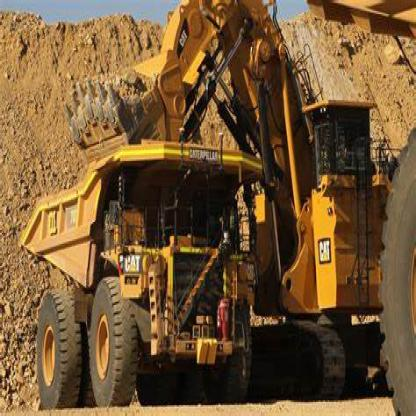dump_truck: (31, 128, 263, 400)
